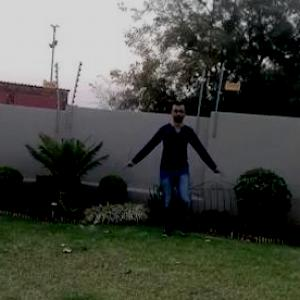land: (125, 105, 225, 238)
